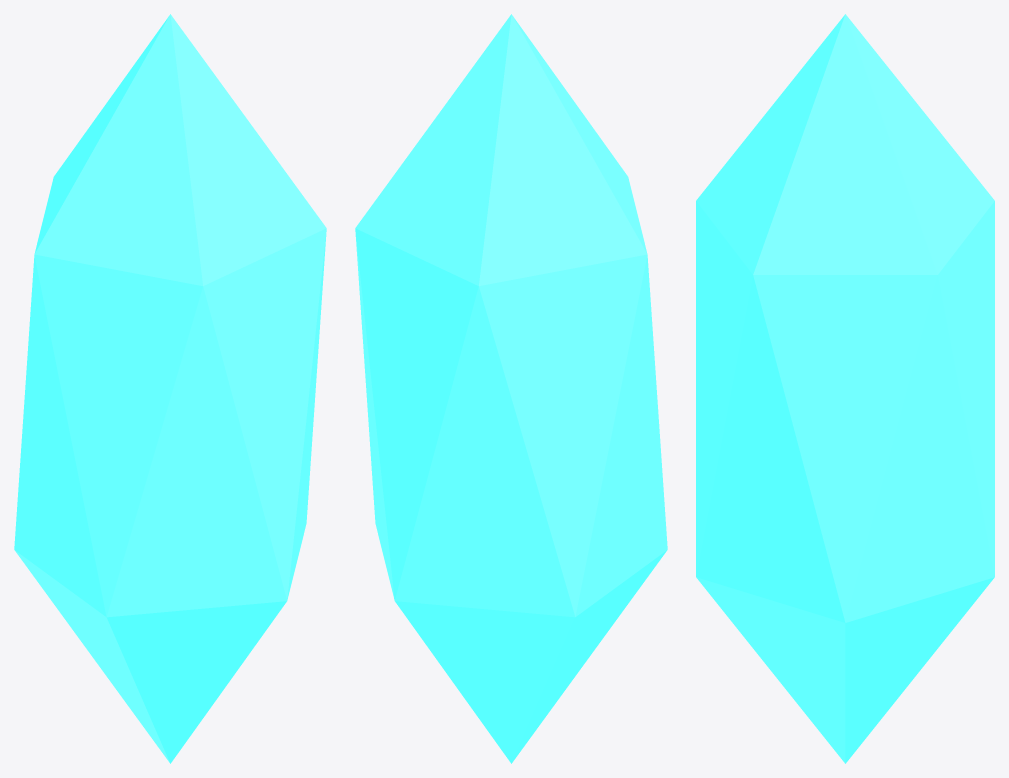
The model's file is Artefato_Principal.fbx.
3 renders of one model, left to right at view 1: azimuth 30°, elevation 25°; view 2: azimuth 150°, elevation 25°; view 3: azimuth 270°, elevation 25°, orthographic.
Visible parts, largest first — view 1: Artefato_Principal; view 2: Artefato_Principal; view 3: Artefato_Principal.
Part boxes in pixels (bbox=[...]): Artefato_Principal: bbox=[14, 14, 326, 763]; Artefato_Principal: bbox=[355, 14, 667, 763]; Artefato_Principal: bbox=[696, 14, 994, 763].
Size of the model in its own units: 268 by 707 by 255.
